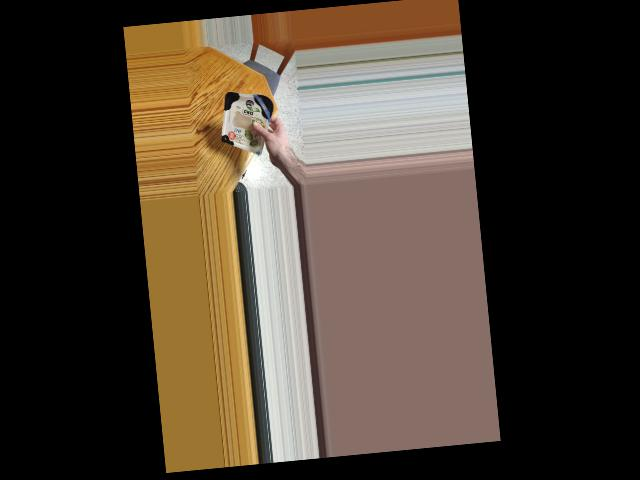cheese: (218, 89, 275, 147)
